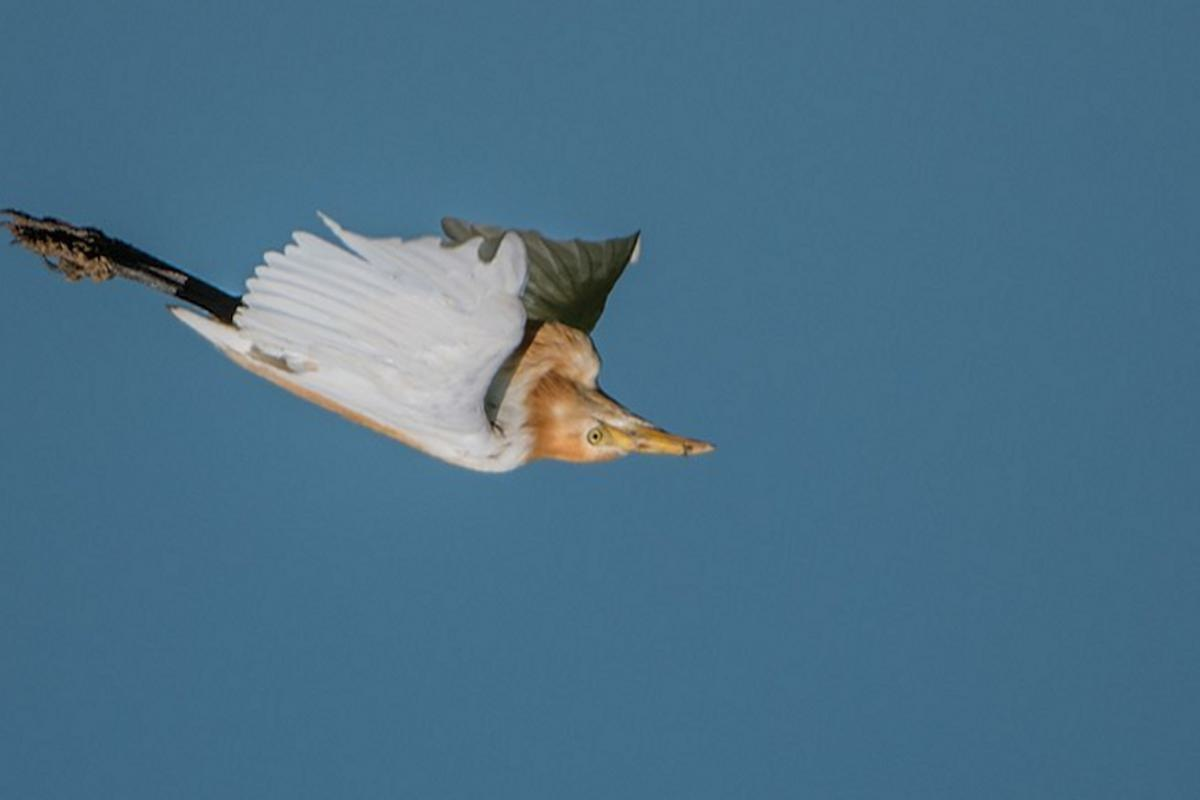egret: (5, 190, 721, 476)
